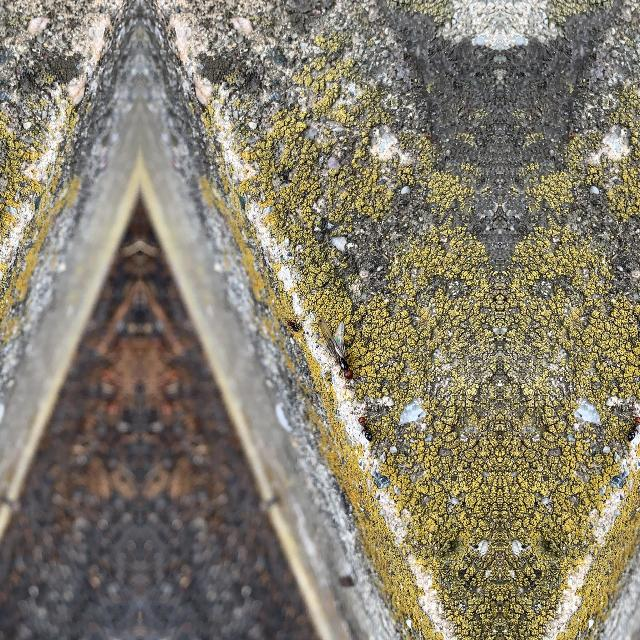Crematogaster: (316, 318, 354, 388), (352, 415, 376, 443), (624, 415, 640, 443), (285, 316, 303, 334)
